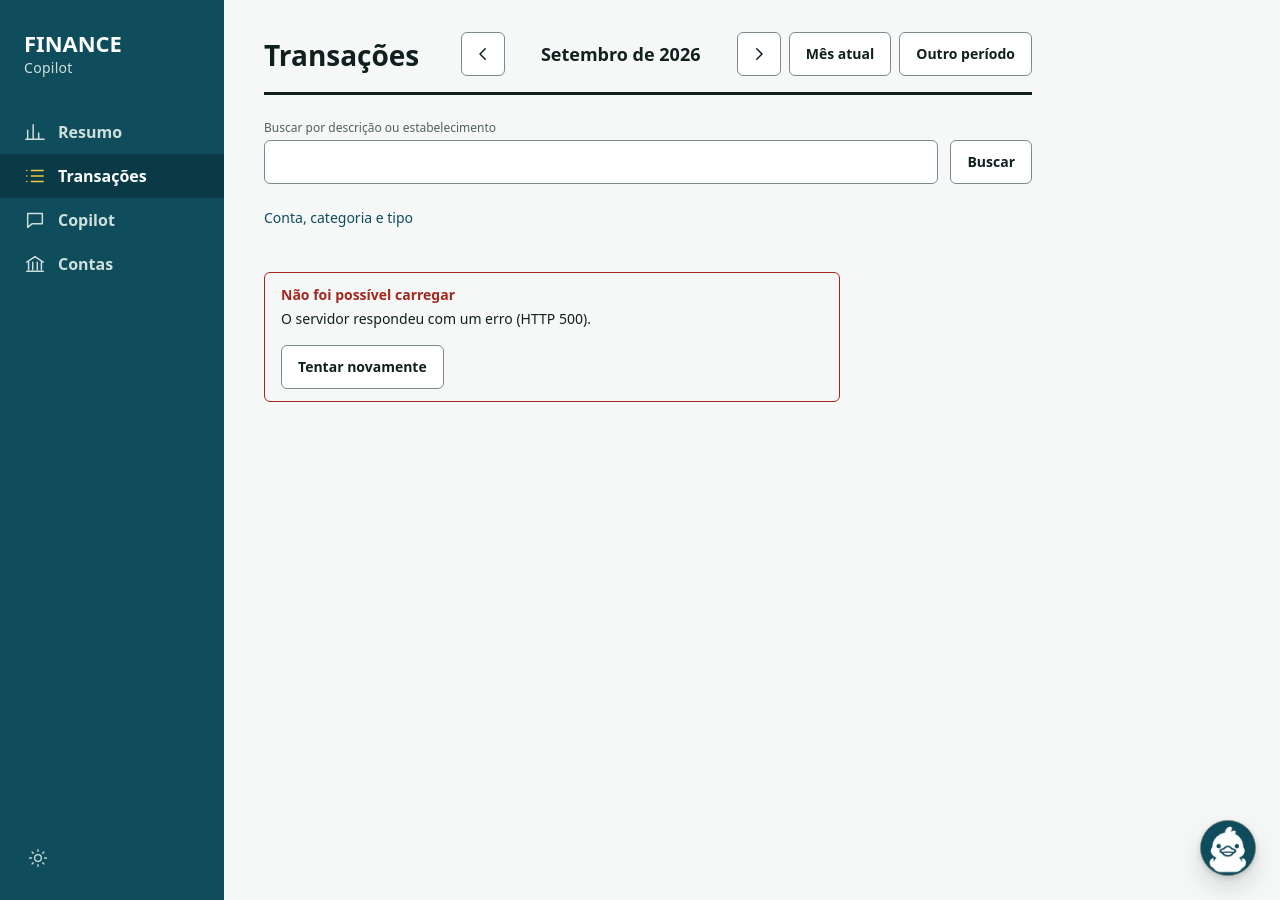
TransactionsPage › shows an error and recovers on retry
Expected: the message shows "HTTP 500", [281,309,591,328]
Click the button "Tentar novamente" at coordinates (362, 367), box [281,345,444,389]
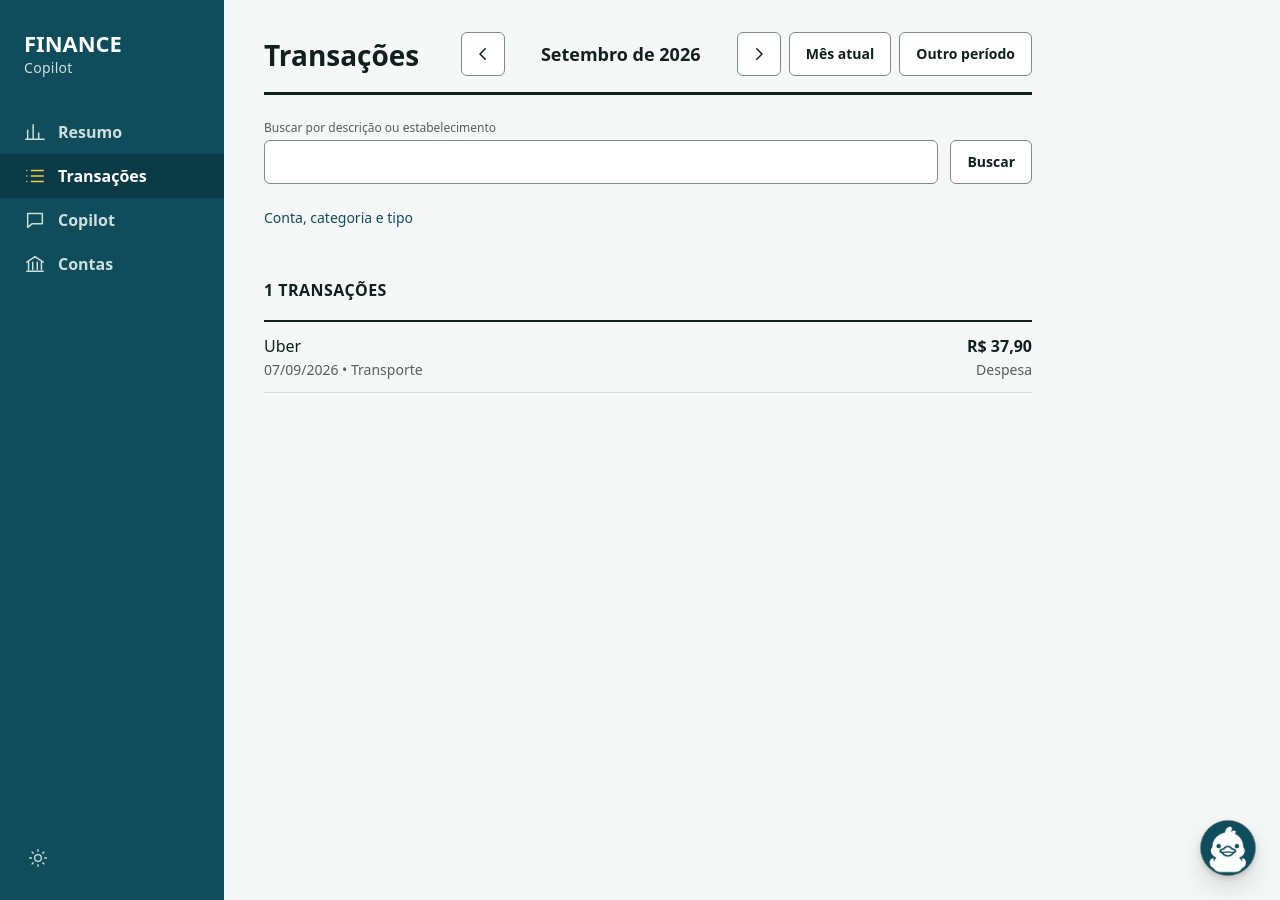
Result: the text "Uber" is shown at [264,335,301,357]
